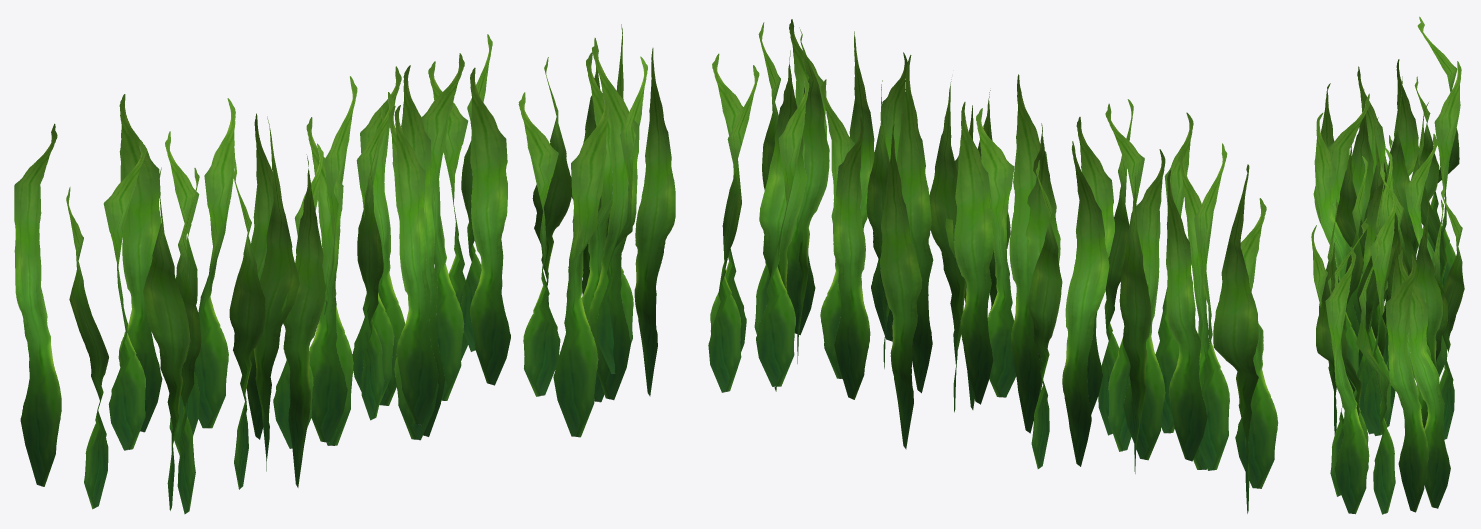
The model's file is CAO2.fbx.
3 renders of one model, left to right at view 1: azimuth 30°, elevation 25°; view 2: azimuth 150°, elevation 25°; view 3: azimuth 270°, elevation 25°, orthographic. The views are drawn at different scales.
Visible parts, largest first — view 1: 空白_1__复制__PLA; view 2: 空白_1__复制__PLA; view 3: 空白_1__复制__PLA.
Part boxes in pixels (x1,y1,x2,y2): 空白_1__复制__PLA: (14,24,675,514); 空白_1__复制__PLA: (708,19,1278,513); 空白_1__复制__PLA: (1311,16,1464,514).
Bounding box in the file's own units: 1011 × 639 × 302.
1 material, 1 textured.
